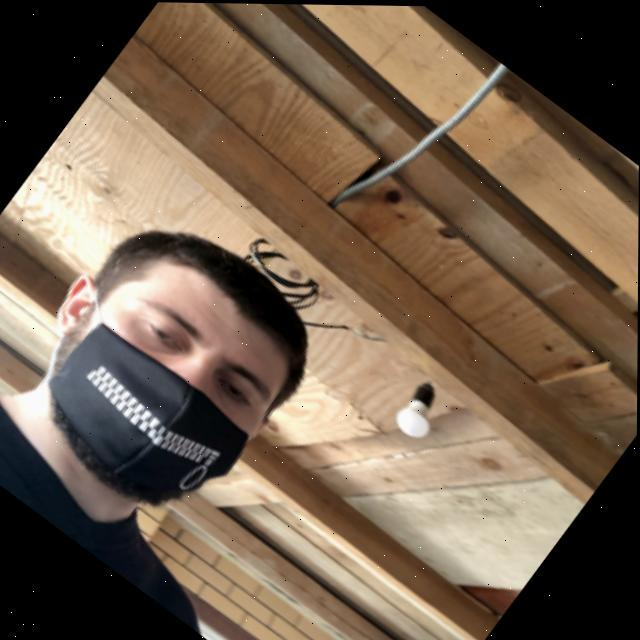Mask: (0, 273, 271, 532)
